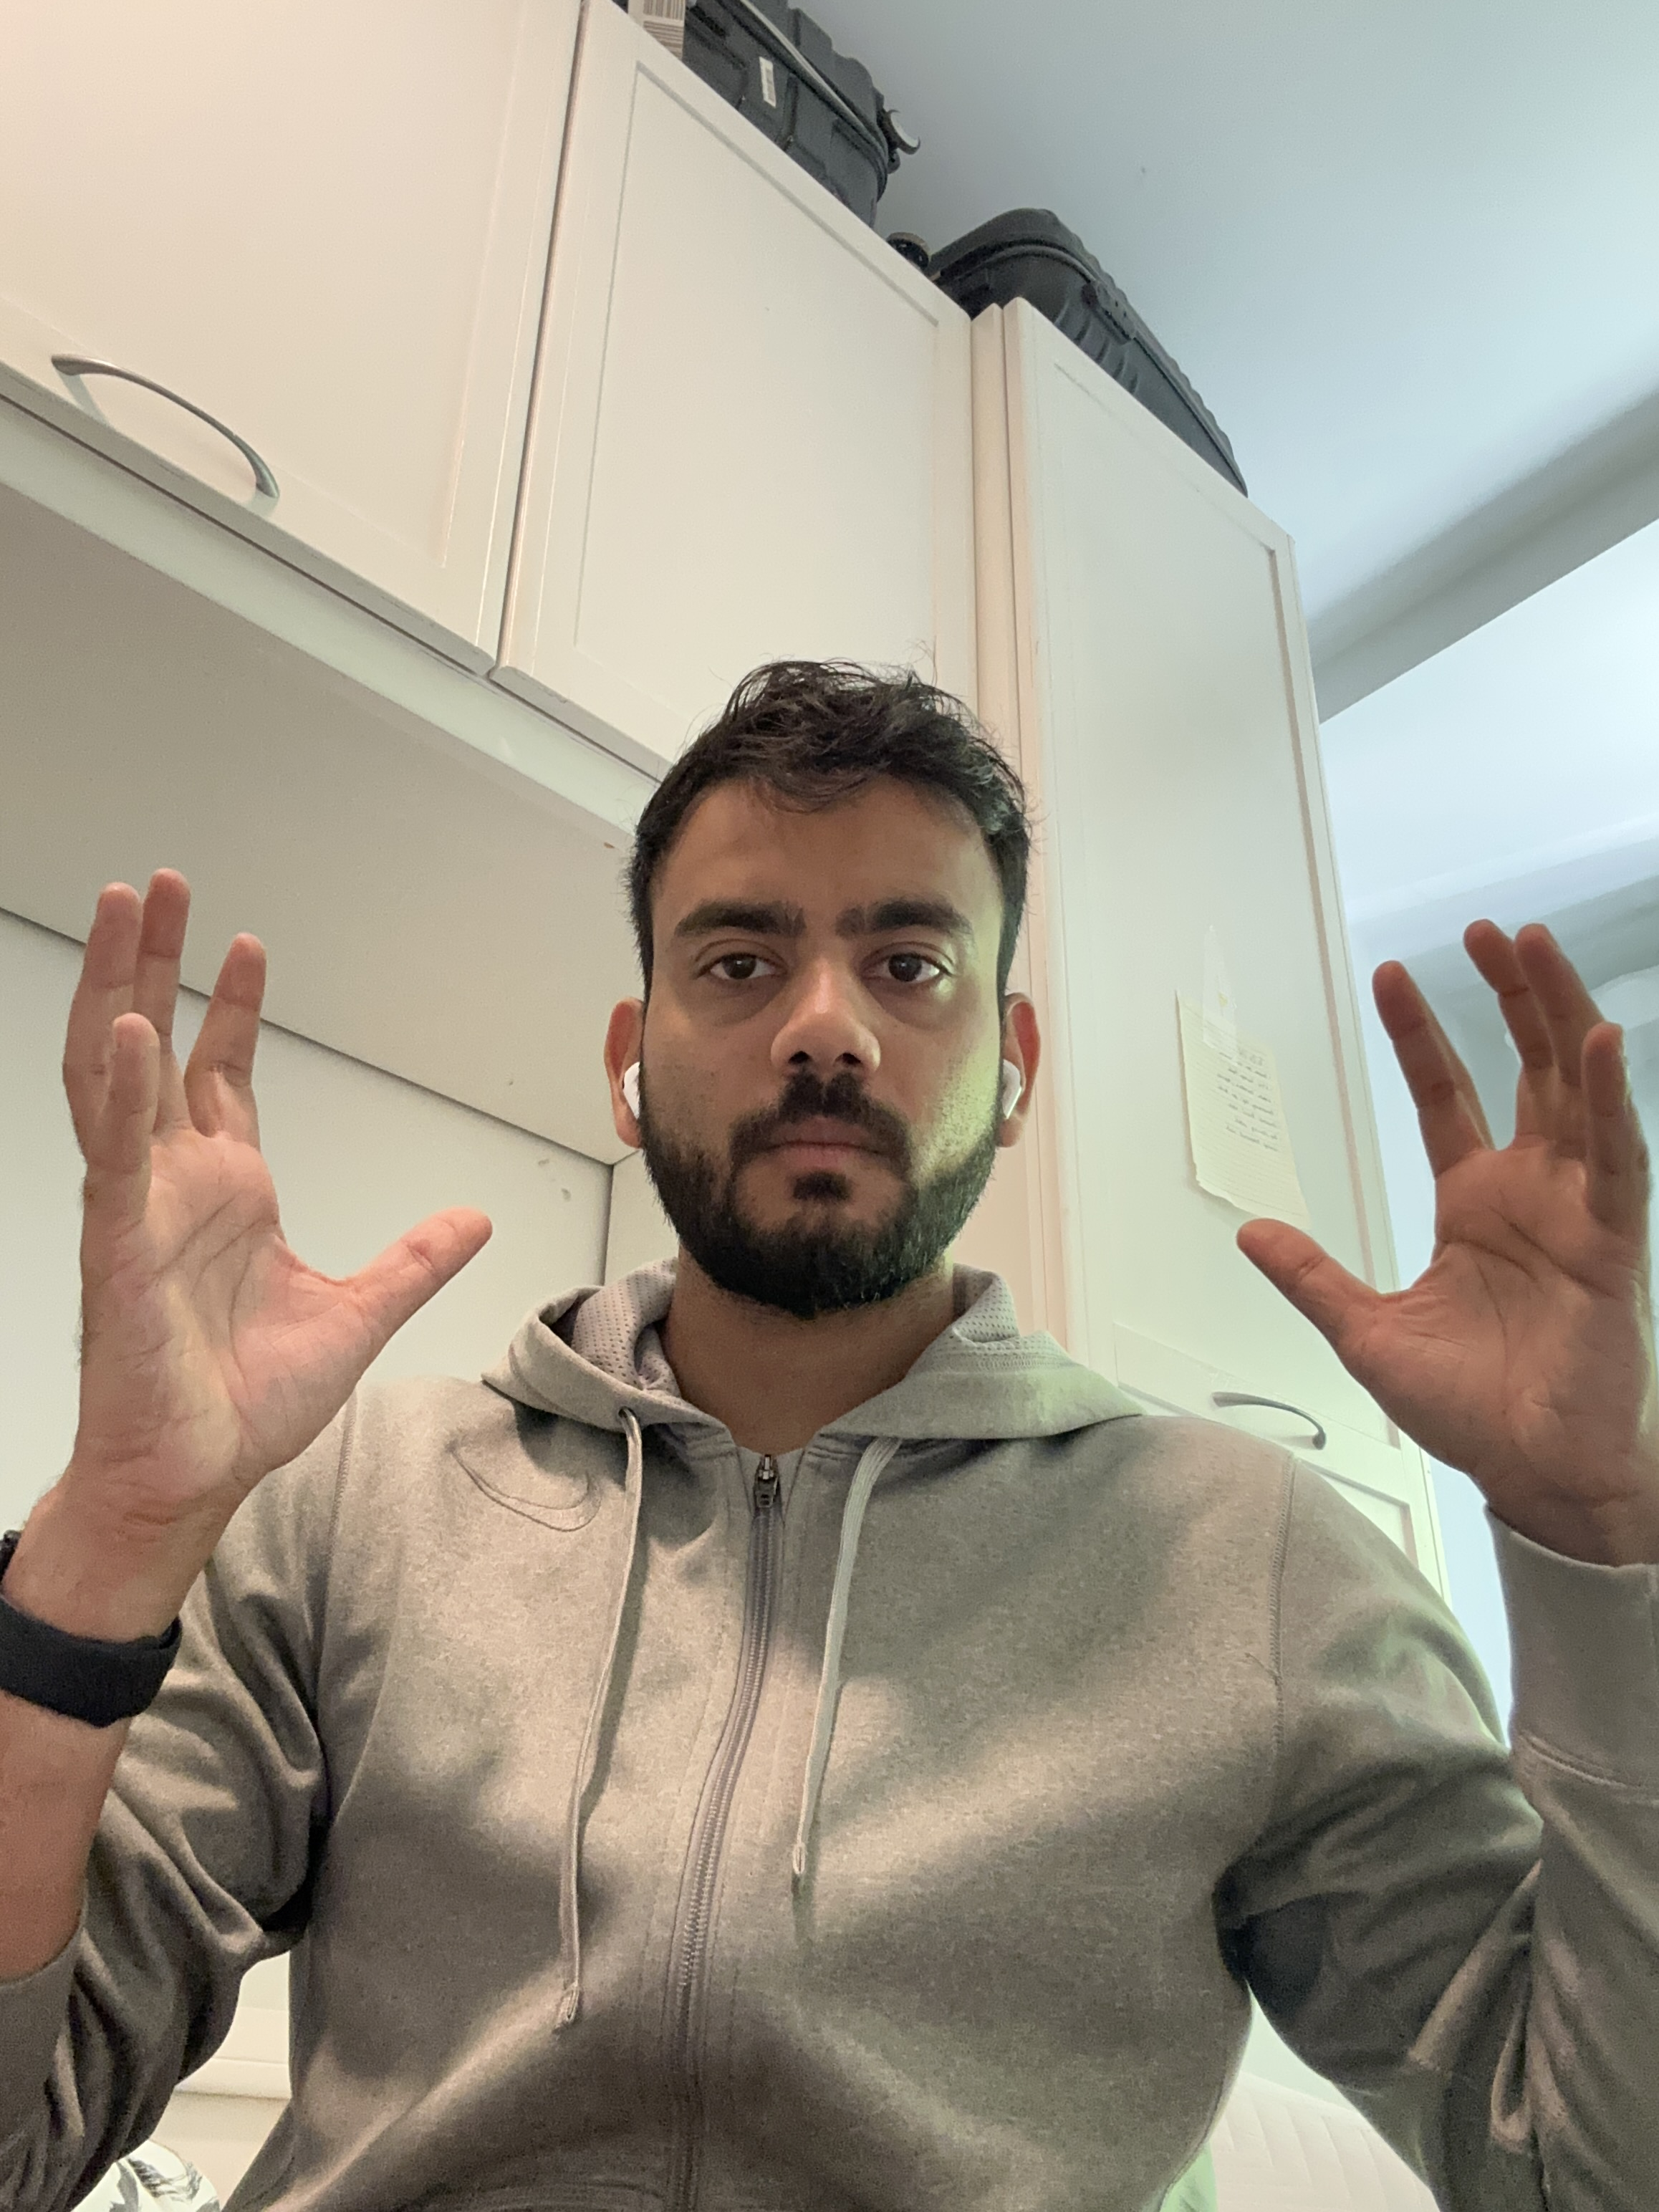explode: (5, 655, 1652, 2203)
